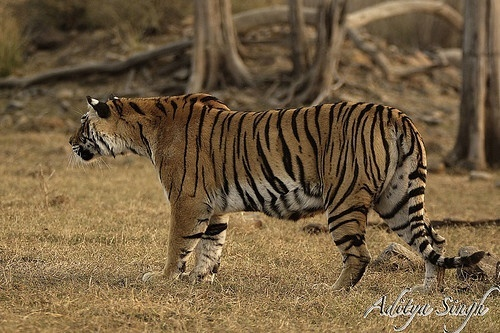tigre: (67, 94, 483, 289)
